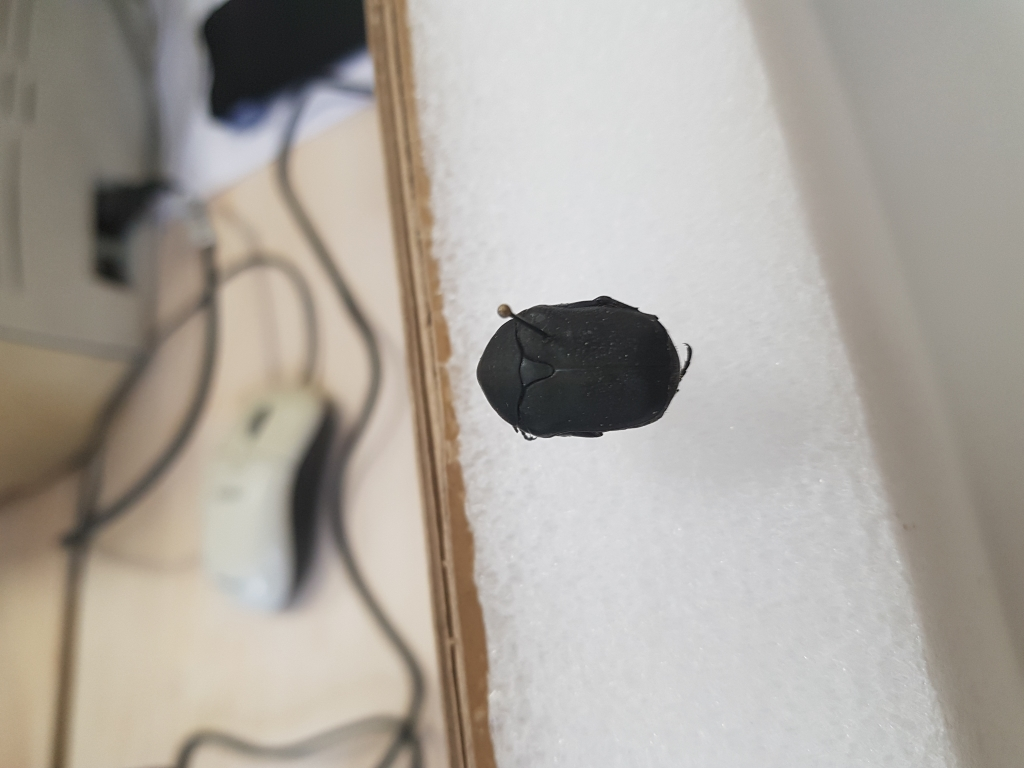Protaetia_afflicta: (469, 287, 696, 447)
